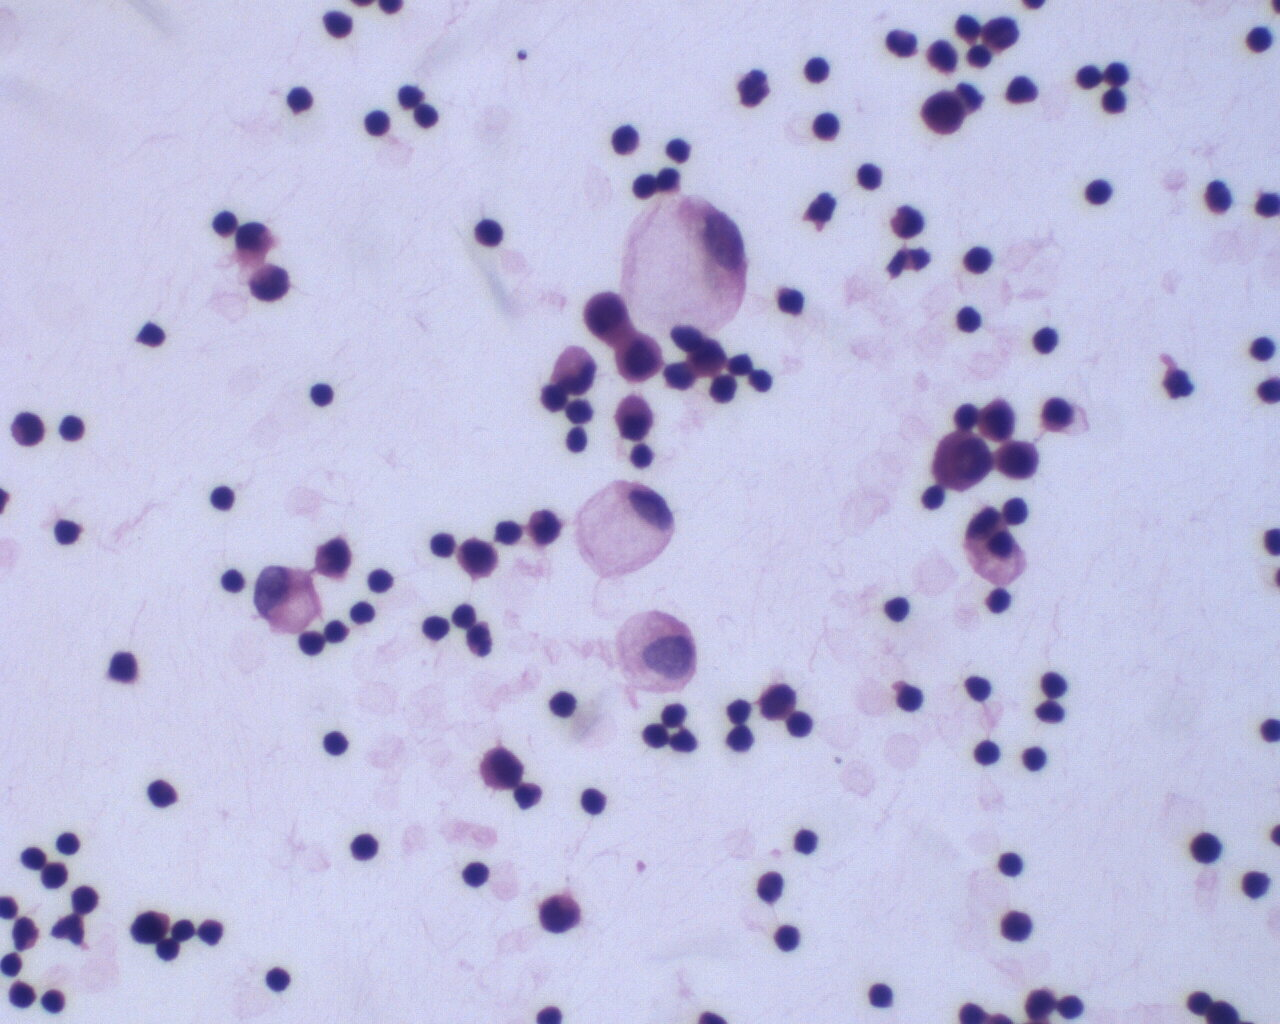ab: (929, 427, 994, 496), (581, 288, 632, 344), (614, 328, 665, 385), (474, 740, 527, 793), (921, 88, 969, 137), (991, 438, 1041, 485), (455, 534, 501, 584), (757, 681, 799, 726), (976, 397, 1017, 442)
histo: (615, 191, 753, 338), (571, 478, 676, 581), (605, 608, 699, 699)
lymph: (1184, 830, 1226, 876), (469, 209, 513, 251), (878, 588, 918, 627), (963, 238, 1000, 281), (801, 49, 839, 89), (144, 772, 177, 818), (348, 827, 385, 866), (808, 108, 844, 147), (1084, 172, 1119, 213), (954, 297, 990, 338), (892, 679, 929, 717), (607, 122, 644, 160), (546, 685, 581, 725), (53, 406, 85, 449), (961, 672, 999, 707), (1029, 318, 1063, 357), (1038, 668, 1073, 702), (995, 847, 1029, 882), (283, 83, 318, 117), (51, 827, 86, 861), (304, 376, 340, 410), (854, 160, 887, 195), (321, 726, 353, 763), (578, 784, 610, 820), (980, 584, 1013, 621), (360, 103, 391, 142), (790, 824, 822, 860), (1243, 23, 1275, 60), (970, 736, 1004, 768), (458, 860, 492, 892), (206, 482, 237, 517), (265, 961, 296, 998), (720, 725, 757, 755), (1018, 743, 1050, 776), (773, 922, 802, 958), (425, 530, 459, 561), (863, 980, 897, 1011), (419, 613, 451, 645), (1248, 334, 1280, 365), (211, 209, 241, 241), (628, 442, 656, 472), (217, 566, 246, 597), (916, 487, 946, 514)
